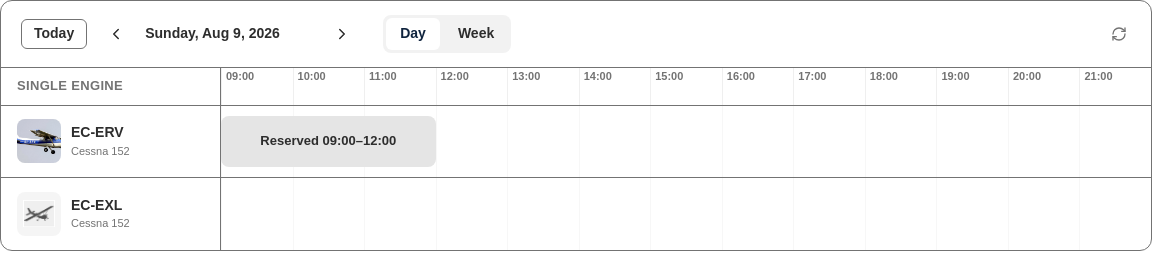
ScheduleBoard › only shows a dated block on the day it was booked for
The width and height of the screenshot is (1152, 268).
Expected: the text "Dual instruction · Alex Moreau" is not shown
Click the button named "Next": (342, 34) [329,21,355,47]
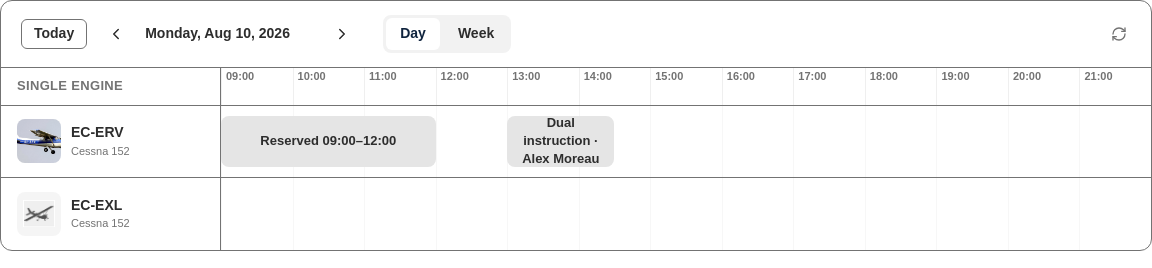
Result: the button "Dual instruction · Alex Moreau" is shown at [507,116,614,167]
